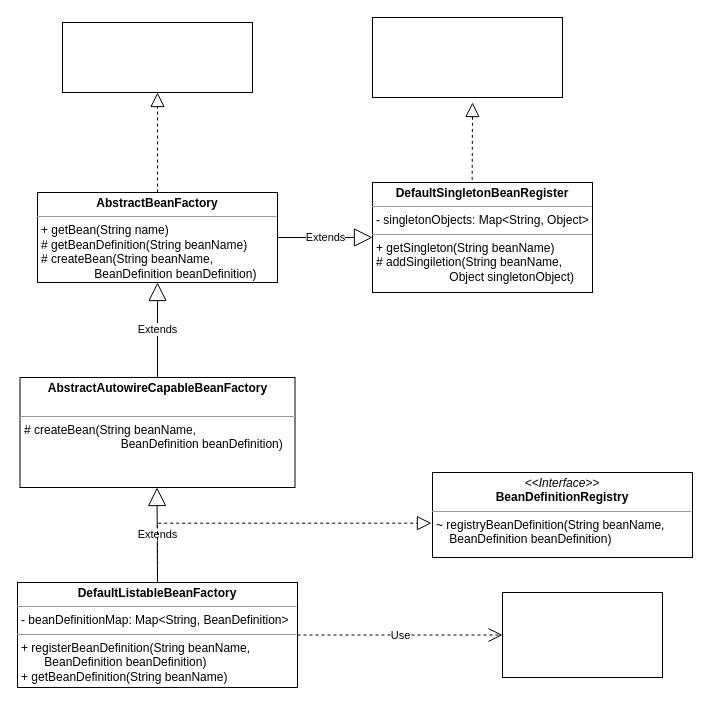
Image size: 710x705. Some labels were removed from this diagram. Each missing label, with the box of its shape:
<<Interface>> BeanFactory + getBean(String name): (62, 22, 252, 92)
<<Interface>> SingletonBeanRegister + getSingleton(String beanName): (372, 16, 562, 98)
BeanDefinition - beanClass: Class: (502, 592, 662, 678)
